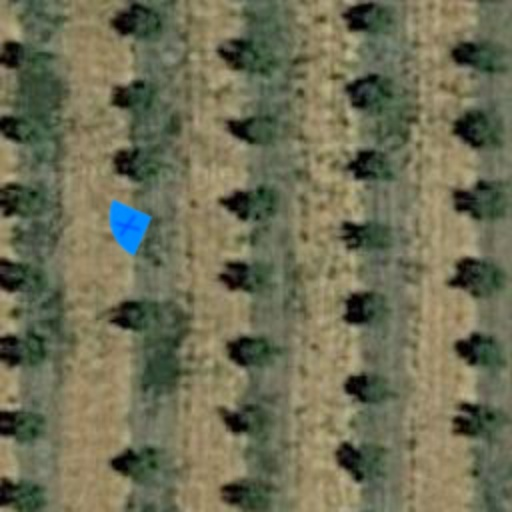quarter_circle: (90, 188, 166, 264)
